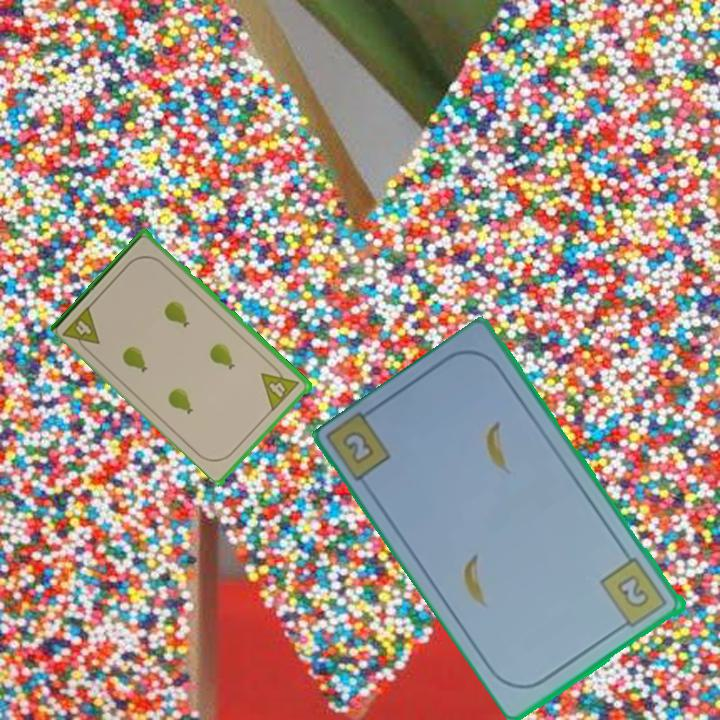2b: (597, 554, 671, 634), (338, 427, 378, 467)
4p: (60, 301, 103, 357), (258, 360, 303, 413)
